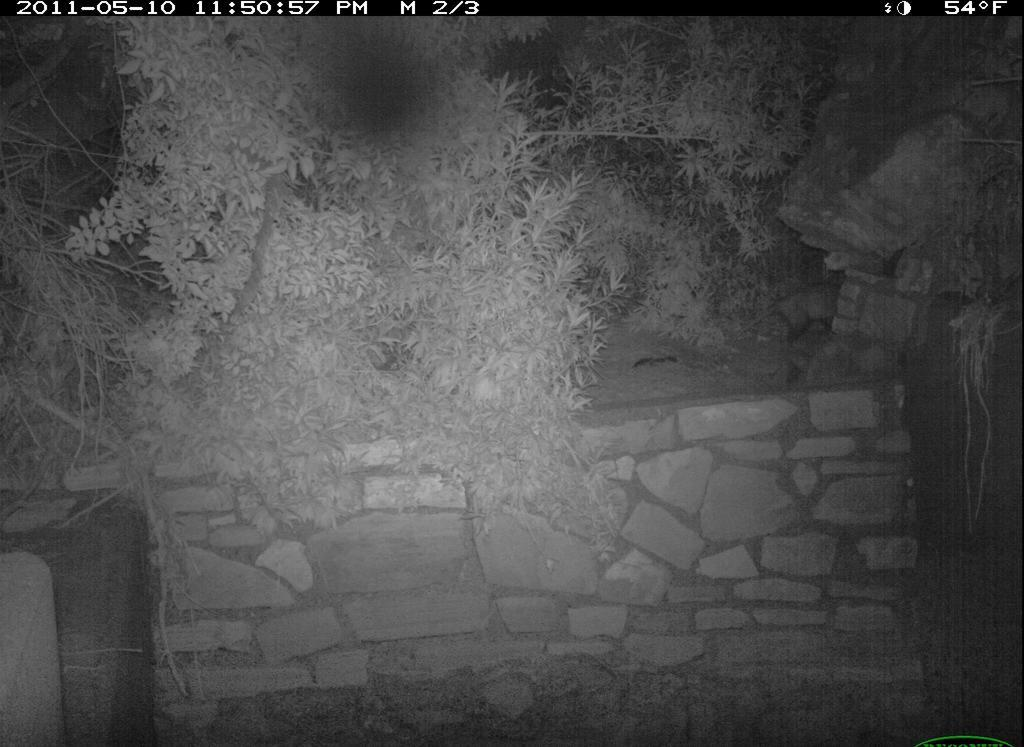opossum: (725, 276, 858, 369)
